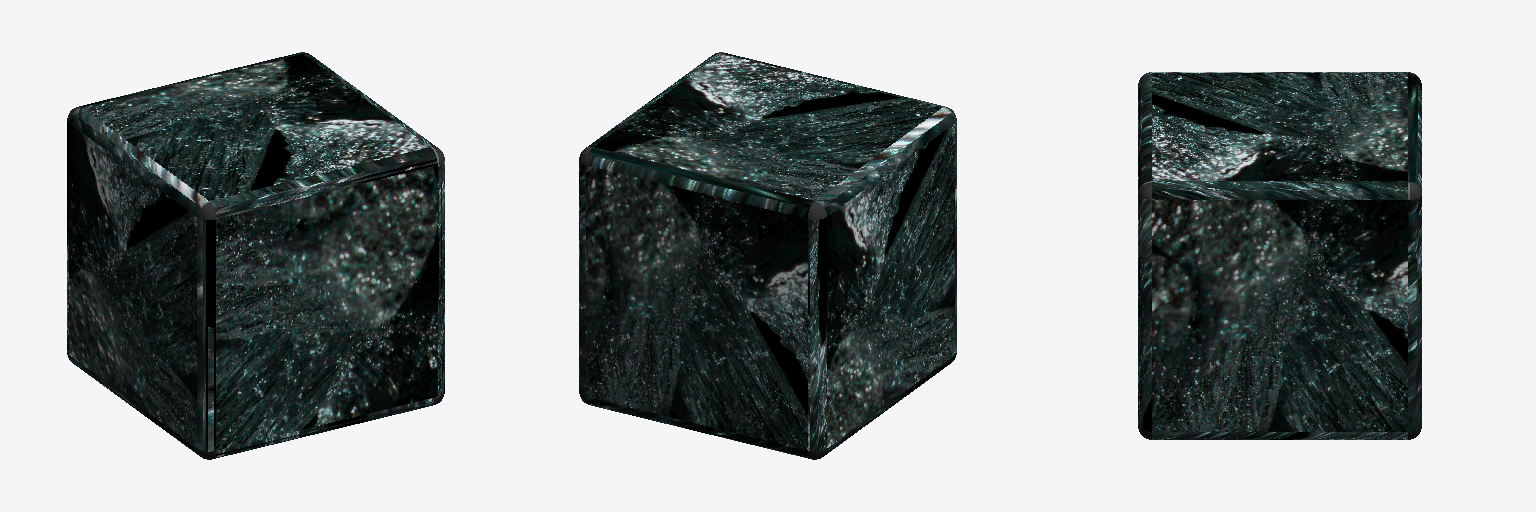
The picture shows the model from 3 angles: view 1: azimuth 30°, elevation 25°; view 2: azimuth 150°, elevation 25°; view 3: azimuth 270°, elevation 25°; orthographic projection.
Parts seen in each view (by area): view 1: Cube; view 2: Cube; view 3: Cube.
Part boxes in pixels (x1,y1,x2,y2): Cube: (67, 52, 444, 459); Cube: (579, 52, 956, 459); Cube: (1138, 72, 1421, 439).
Size of the model in its own units: 2 by 2 by 2.
Materials: 1 (1 with a texture image).